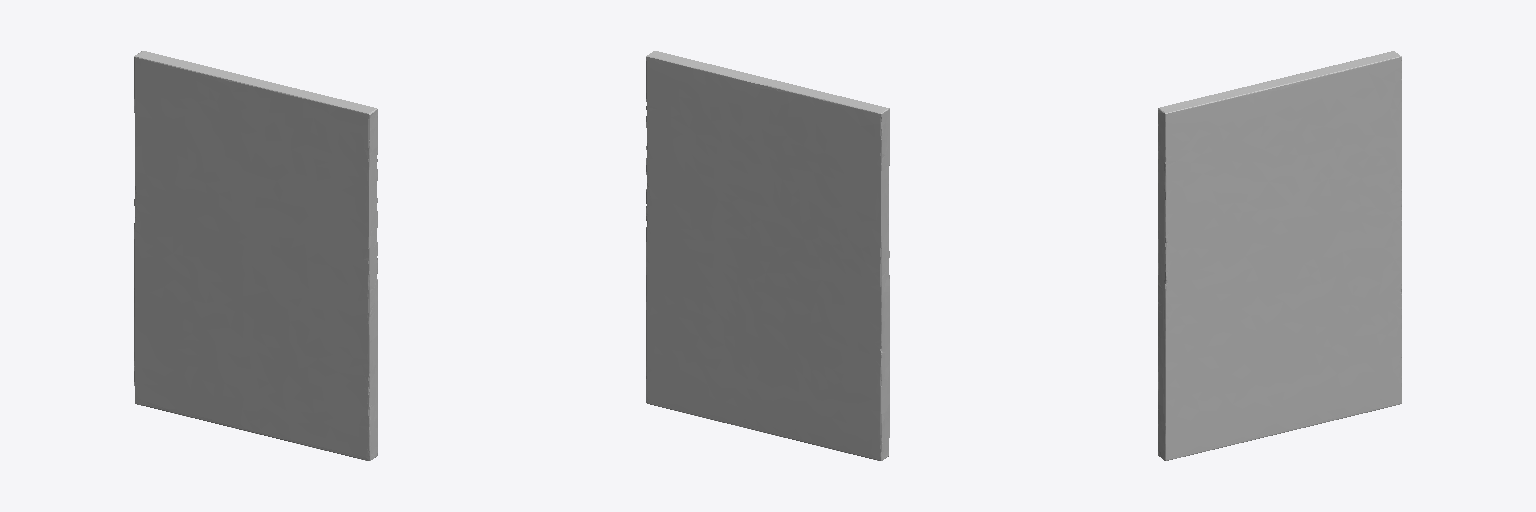
The model's file is cuadronuevo15.obj.
3 renders of one model, left to right at view 1: azimuth 30°, elevation 25°; view 2: azimuth 210°, elevation 25°; view 3: azimuth 270°, elevation 25°, orthographic.
Visible parts, largest first — view 1: cuadronuevo15; view 2: cuadronuevo15; view 3: cuadronuevo15.
Part boxes in pixels (left/top/right/bottom): cuadronuevo15: left=134, top=51, right=377, bottom=460; cuadronuevo15: left=646, top=51, right=889, bottom=460; cuadronuevo15: left=1158, top=51, right=1401, bottom=460.
Bounding box in the file's own units: 4.58 × 11.78 × 7.49.